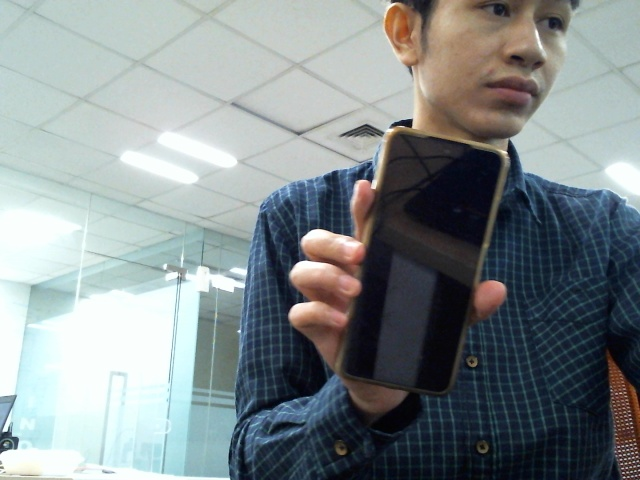handphone: (335, 127, 509, 397)
